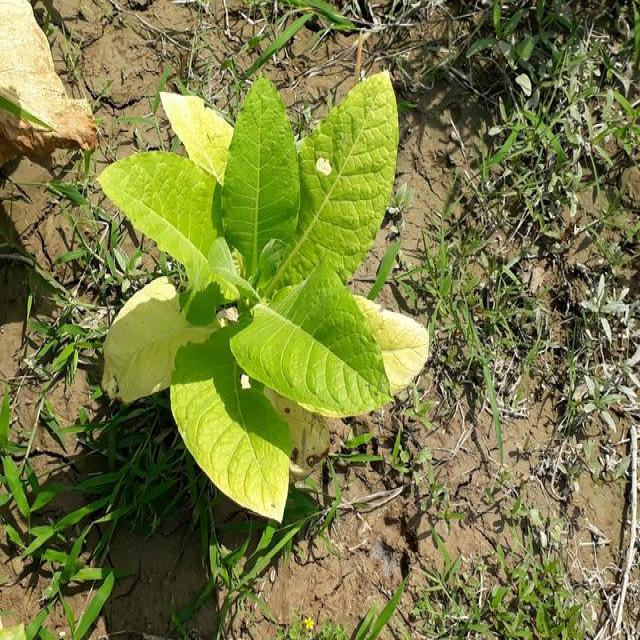crop: (103, 62, 436, 523)
